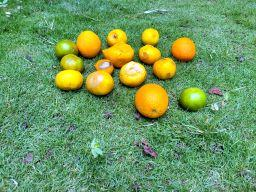orange: (135, 84, 168, 119), (102, 43, 134, 68), (86, 70, 115, 97), (119, 61, 147, 87), (77, 30, 101, 58), (171, 37, 196, 62), (180, 87, 206, 111), (53, 38, 79, 61), (55, 70, 83, 91), (153, 58, 176, 79), (60, 54, 85, 73), (139, 45, 161, 64), (106, 29, 127, 47), (141, 28, 161, 45), (95, 59, 114, 75)
